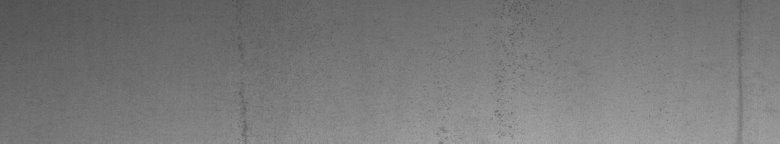ib: (437, 4, 523, 135)
